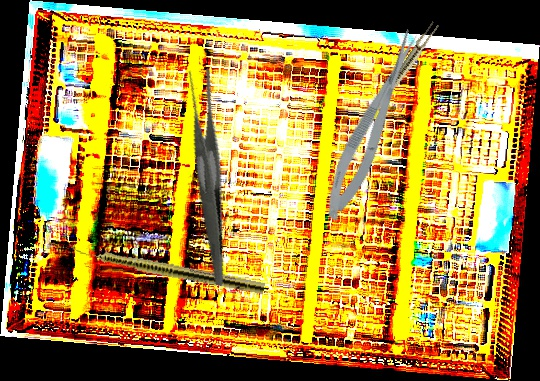Dressing Forceps: (143, 65, 269, 286)
Handpiece: (65, 241, 266, 296)
Micro Scissor: (314, 26, 432, 225)
Tissue Forceps: (348, 19, 441, 147)
